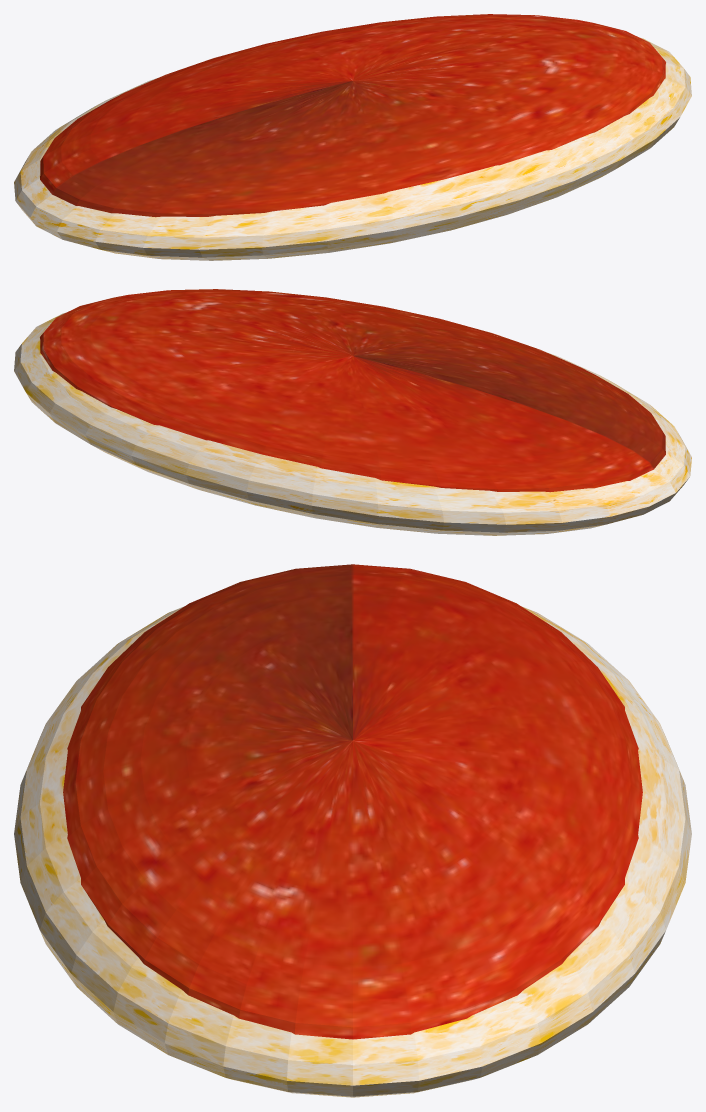
The model's file is memela-roja-base.glb.
3 renders of one model, top to bottom at view 1: azimuth 30°, elevation 25°; view 2: azimuth 150°, elevation 25°; view 3: azimuth 270°, elevation 25°, orthographic. The views are drawn at different scales.
Visible parts, largest first — view 1: Sphere; view 2: Sphere; view 3: Sphere.
Part boxes in pixels (x1=…): Sphere: x1=14, y1=14, x2=691, y2=260; Sphere: x1=14, y1=289, x2=691, y2=535; Sphere: x1=14, y1=564, x2=691, y2=1097.
Bounding box in the file's own units: 2 × 0.3232 × 1.14.
2 materials, 2 textured.
